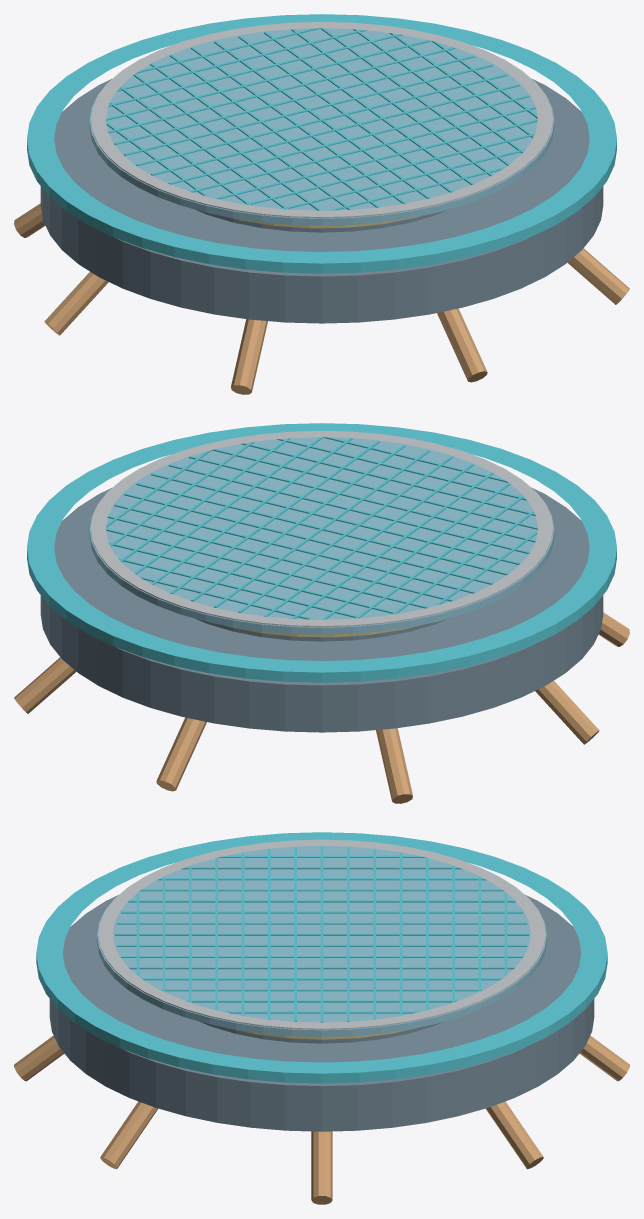
Rendered from 32_L78_LowKHeatedWaferChuck.glb.
3 renders of one model, top to bottom at view 1: azimuth 30°, elevation 25°; view 2: azimuth 150°, elevation 25°; view 3: azimuth 270°, elevation 25°, orthographic. The views are drawn at different scales.
Visible parts, largest first — view 1: LowKHeatedWaferChuck_Node_0002, LowKHeatedWaferChuck_Node_0000, LowKHeatedWaferChuck_Node_0001, LowKHeatedWaferChuck_Node_0003, LowKHeatedWaferChuck_Node_0036, LowKHeatedWaferChuck_Node_0037, LowKHeatedWaferChuck_Node_0038, LowKHeatedWaferChuck_Node_0035, LowKHeatedWaferChuck_Node_0017, LowKHeatedWaferChuck_Node_0019, LowKHeatedWaferChuck_Node_0021, LowKHeatedWaferChuck_Node_0015 (+25 smaller); view 2: LowKHeatedWaferChuck_Node_0002, LowKHeatedWaferChuck_Node_0000, LowKHeatedWaferChuck_Node_0001, LowKHeatedWaferChuck_Node_0003, LowKHeatedWaferChuck_Node_0040, LowKHeatedWaferChuck_Node_0039, LowKHeatedWaferChuck_Node_0038, LowKHeatedWaferChuck_Node_0041, LowKHeatedWaferChuck_Node_0017, LowKHeatedWaferChuck_Node_0019, LowKHeatedWaferChuck_Node_0021, LowKHeatedWaferChuck_Node_0023 (+25 smaller); view 3: LowKHeatedWaferChuck_Node_0002, LowKHeatedWaferChuck_Node_0000, LowKHeatedWaferChuck_Node_0001, LowKHeatedWaferChuck_Node_0003, LowKHeatedWaferChuck_Node_0034, LowKHeatedWaferChuck_Node_0035, LowKHeatedWaferChuck_Node_0041, LowKHeatedWaferChuck_Node_0018, LowKHeatedWaferChuck_Node_0016, LowKHeatedWaferChuck_Node_0020, LowKHeatedWaferChuck_Node_0014, LowKHeatedWaferChuck_Node_0012 (+16 smaller).
Boxes of the visible parts, left/top/right/bottom form: LowKHeatedWaferChuck_Node_0002: left=89, top=28, right=554, bottom=225; LowKHeatedWaferChuck_Node_0000: left=40, top=79, right=603, bottom=323; LowKHeatedWaferChuck_Node_0001: left=27, top=14, right=616, bottom=273; LowKHeatedWaferChuck_Node_0003: left=91, top=21, right=552, bottom=218; LowKHeatedWaferChuck_Node_0036: left=437, top=308, right=487, bottom=382; LowKHeatedWaferChuck_Node_0037: left=231, top=319, right=267, bottom=394; LowKHeatedWaferChuck_Node_0038: left=44, top=272, right=108, bottom=335; LowKHeatedWaferChuck_Node_0035: left=567, top=248, right=629, bottom=304; LowKHeatedWaferChuck_Node_0017: left=124, top=64, right=492, bottom=155; LowKHeatedWaferChuck_Node_0019: left=136, top=74, right=507, bottom=166; LowKHeatedWaferChuck_Node_0021: left=151, top=84, right=519, bottom=175; LowKHeatedWaferChuck_Node_0015: left=114, top=55, right=475, bottom=144; LowKHeatedWaferChuck_Node_0002: left=89, top=437, right=554, bottom=634; LowKHeatedWaferChuck_Node_0000: left=40, top=488, right=603, bottom=732; LowKHeatedWaferChuck_Node_0001: left=27, top=423, right=616, bottom=682; LowKHeatedWaferChuck_Node_0003: left=91, top=430, right=552, bottom=627; LowKHeatedWaferChuck_Node_0040: left=156, top=717, right=206, bottom=791; LowKHeatedWaferChuck_Node_0039: left=376, top=728, right=412, bottom=803; LowKHeatedWaferChuck_Node_0038: left=535, top=681, right=599, bottom=744; LowKHeatedWaferChuck_Node_0041: left=14, top=657, right=76, bottom=713; LowKHeatedWaferChuck_Node_0017: left=124, top=493, right=492, bottom=584; LowKHeatedWaferChuck_Node_0019: left=136, top=483, right=507, bottom=575; LowKHeatedWaferChuck_Node_0021: left=151, top=473, right=519, bottom=564; LowKHeatedWaferChuck_Node_0023: left=168, top=464, right=529, bottom=553; LowKHeatedWaferChuck_Node_0002: left=97, top=845, right=546, bottom=1036; LowKHeatedWaferChuck_Node_0000: left=49, top=895, right=594, bottom=1131; LowKHeatedWaferChuck_Node_0001: left=36, top=832, right=607, bottom=1083; LowKHeatedWaferChuck_Node_0003: left=98, top=839, right=545, bottom=1029; LowKHeatedWaferChuck_Node_0034: left=311, top=1131, right=332, bottom=1204; LowKHeatedWaferChuck_Node_0035: left=100, top=1101, right=157, bottom=1169; LowKHeatedWaferChuck_Node_0041: left=486, top=1101, right=543, bottom=1169; LowKHeatedWaferChuck_Node_0018: left=115, top=933, right=528, bottom=935; LowKHeatedWaferChuck_Node_0016: left=116, top=922, right=527, bottom=924; LowKHeatedWaferChuck_Node_0020: left=116, top=944, right=527, bottom=946; LowKHeatedWaferChuck_Node_0014: left=121, top=911, right=522, bottom=913; LowKHeatedWaferChuck_Node_0012: left=128, top=900, right=515, bottom=902.
Size of the model in its own units: 2.33 by 0.6098 by 2.33.
